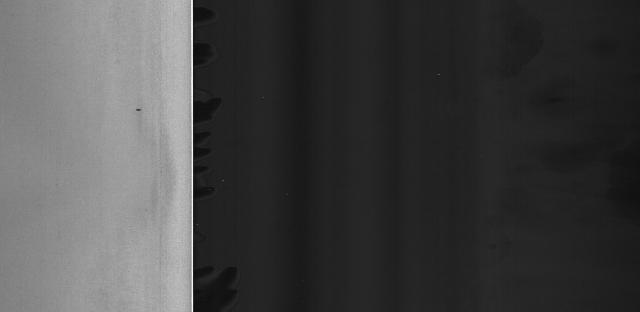inclusion: (133, 106, 143, 117)
